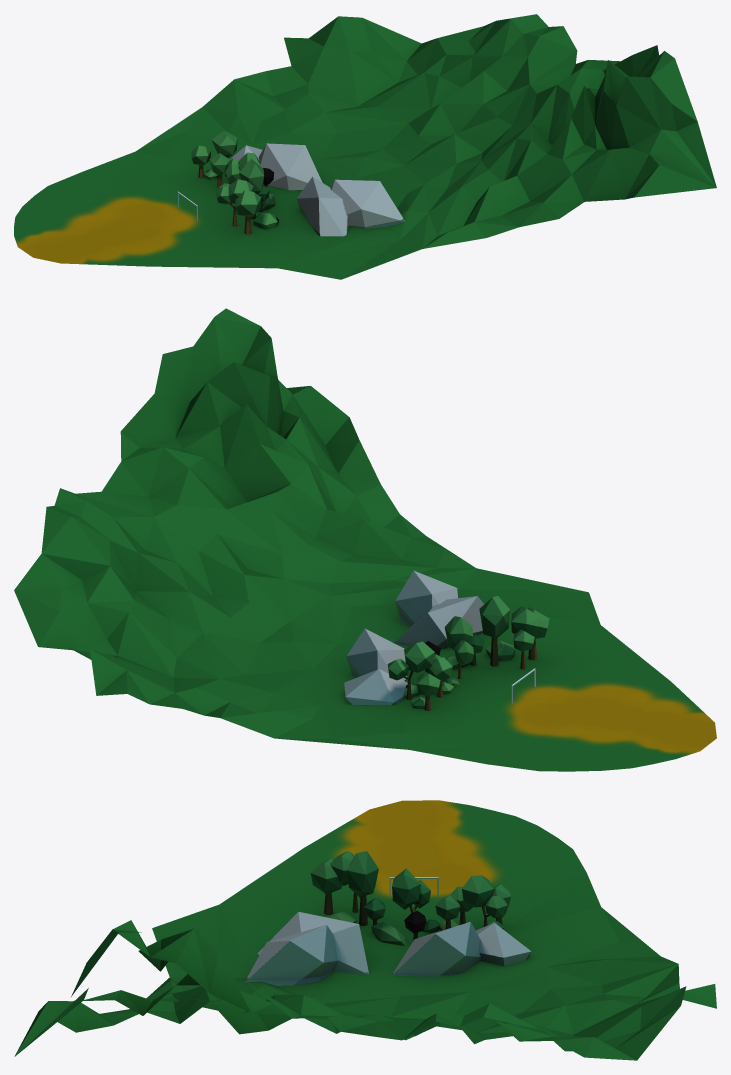
The model's file is forest.gltf.
The picture shows the model from 3 angles, top to bottom: view 1: azimuth 30°, elevation 25°; view 2: azimuth 150°, elevation 25°; view 3: azimuth 270°, elevation 25°; orthographic projection. The views are drawn at different scales.
Visible parts, largest first — view 1: ObjectGround, ObjectRock, ObjectTree.002, ObjectBigTree.002, ObjectTree.006, ObjectBigTree.001, ObjectBigTree; view 2: ObjectGround, ObjectRock, ObjectBigTree.001, ObjectTree.006, ObjectBigTree.002, ObjectBigTree; view 3: ObjectGround, ObjectRock, ObjectTree.006, ObjectBigTree.001, ObjectBigTree, ObjectTree.002, ObjectBigTree.002, ObjectBush.002, ObjectTree.004.
Part boxes in pixels (x1,y1,x2,y2): ObjectGround: [14, 14, 716, 279]; ObjectRock: [230, 143, 405, 236]; ObjectTree.002: [235, 190, 261, 234]; ObjectBigTree.002: [216, 179, 253, 226]; ObjectTree.006: [239, 158, 264, 219]; ObjectBigTree.001: [212, 130, 237, 176]; ObjectBigTree: [225, 152, 260, 184]; ObjectGround: [14, 308, 716, 771]; ObjectRock: [344, 570, 483, 705]; ObjectBigTree.001: [387, 641, 434, 699]; ObjectTree.006: [479, 596, 510, 666]; ObjectBigTree.002: [511, 606, 541, 669]; ObjectBigTree: [444, 616, 473, 679]; ObjectGround: [14, 800, 716, 1060]; ObjectRock: [244, 911, 531, 985]; ObjectTree.006: [348, 851, 378, 925]; ObjectBigTree.001: [462, 875, 508, 926]; ObjectBigTree: [392, 868, 430, 913]; ObjectTree.002: [310, 858, 342, 914]; ObjectBigTree.002: [330, 851, 358, 912]; ObjectBush.002: [371, 921, 405, 945]; ObjectTree.004: [435, 895, 460, 929].
Bounding box in the file's own units: 70.66 × 21.74 × 62.3.
29 materials, 29 textured.
